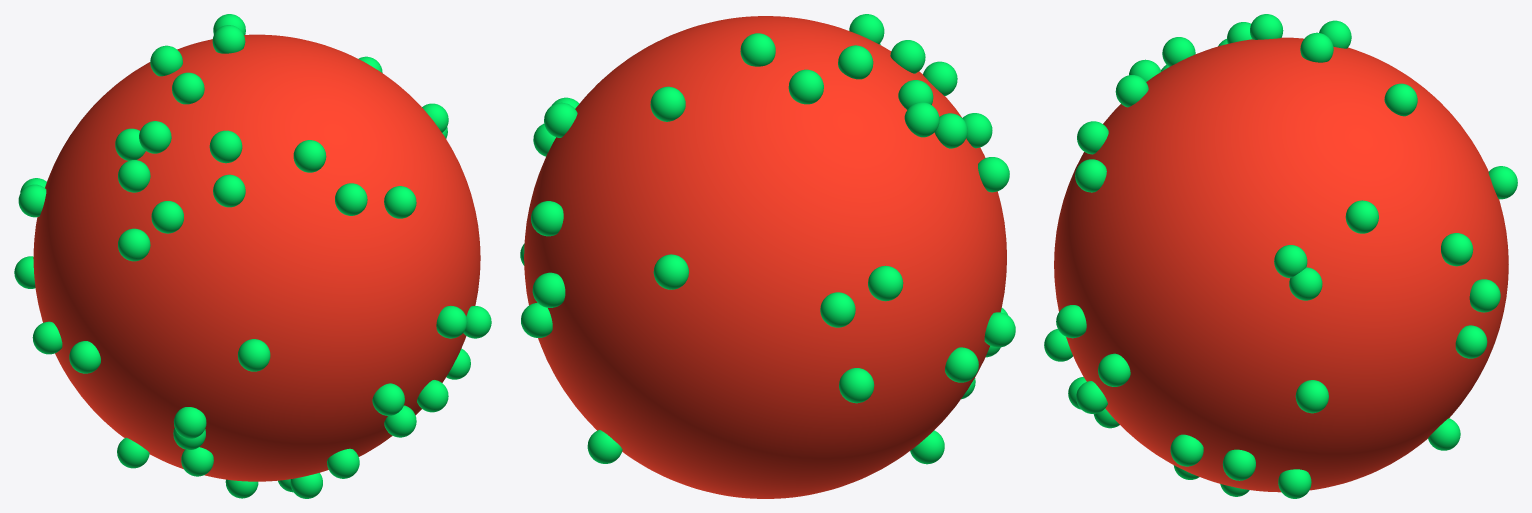
Rendered from thomson-plum-pudding.glb.
3 views of the same model, side by side, from view 1: azimuth 30°, elevation 25°; view 2: azimuth 150°, elevation 25°; view 3: azimuth 270°, elevation 25° (orthographic). The views are drawn at different scales.
Visible parts, largest first — view 1: Large Red Sphere: Positive Charge, Green Electron 40, Green Electron 34, Green Electron 12, Green Electron 20, Green Electron 21, Green Electron 16, Green Electron 42, Green Electron 14, Green Electron 35, Green Electron 10, Green Electron 37 (+17 smaller); view 2: Large Red Sphere: Positive Charge, Green Electron 41, Green Electron 22, Green Electron 23, Green Electron 6, Green Electron 2, Green Electron 29, Green Electron 24, Green Electron 7, Green Electron 37, Green Electron 26, Green Electron 43 (+13 smaller); view 3: Large Red Sphere: Positive Charge, Green Electron 15, Green Electron 32, Green Electron 43, Green Electron 18, Green Electron 5, Green Electron 11, Green Electron 26, Green Electron 31, Green Electron 29, Green Electron 30, Green Electron 35 (+13 smaller).
Part boxes in pixels (bbox=[...]): Large Red Sphere: Positive Charge: bbox=[33, 34, 480, 481]; Green Electron 40: bbox=[209, 130, 242, 163]; Green Electron 34: bbox=[213, 174, 245, 207]; Green Electron 12: bbox=[118, 228, 150, 261]; Green Electron 20: bbox=[151, 201, 183, 233]; Green Electron 21: bbox=[237, 339, 270, 371]; Green Electron 16: bbox=[293, 140, 326, 172]; Green Electron 42: bbox=[335, 183, 367, 215]; Green Electron 14: bbox=[118, 160, 150, 192]; Green Electron 35: bbox=[384, 186, 416, 218]; Green Electron 10: bbox=[139, 121, 171, 153]; Green Electron 37: bbox=[172, 72, 204, 104]; Large Red Sphere: Positive Charge: bbox=[524, 16, 1006, 498]; Green Electron 41: bbox=[820, 292, 855, 327]; Green Electron 22: bbox=[653, 254, 688, 289]; Green Electron 23: bbox=[868, 265, 903, 301]; Green Electron 6: bbox=[839, 368, 874, 403]; Green Electron 2: bbox=[788, 69, 823, 104]; Green Electron 29: bbox=[650, 86, 685, 121]; Green Electron 24: bbox=[740, 33, 775, 66]; Green Electron 7: bbox=[904, 102, 939, 137]; Green Electron 37: bbox=[838, 45, 873, 79]; Green Electron 26: bbox=[532, 272, 565, 307]; Green Electron 43: bbox=[531, 201, 563, 236]; Large Red Sphere: Positive Charge: bbox=[1054, 37, 1508, 492]; Green Electron 15: bbox=[1345, 200, 1378, 233]; Green Electron 32: bbox=[1295, 380, 1328, 413]; Green Electron 43: bbox=[1441, 233, 1473, 266]; Green Electron 18: bbox=[1274, 245, 1307, 278]; Green Electron 5: bbox=[1098, 353, 1130, 386]; Green Electron 11: bbox=[1455, 325, 1487, 358]; Green Electron 26: bbox=[1469, 279, 1500, 312]; Green Electron 31: bbox=[1222, 449, 1255, 480]; Green Electron 29: bbox=[1384, 83, 1417, 116]; Green Electron 30: bbox=[1170, 434, 1203, 466]; Green Electron 35: bbox=[1075, 159, 1106, 192].
Size of the model in its own units: 0.646 by 0.6508 by 0.6227.
